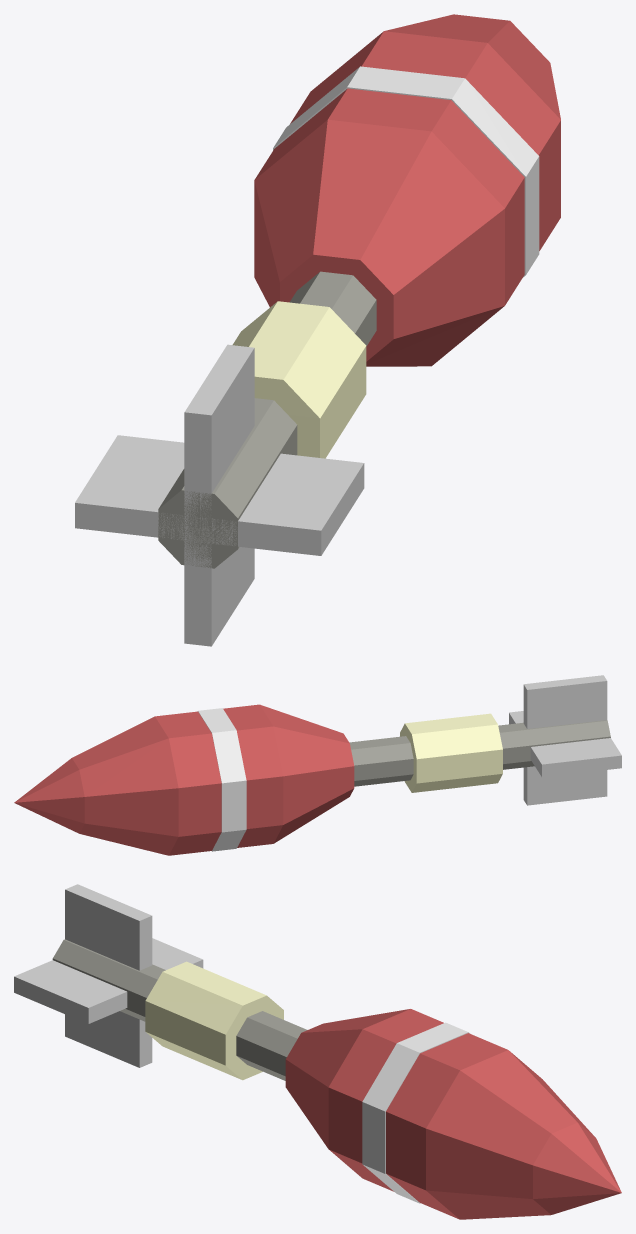
The model's file is ce_ammo_mortar_firefoam_a.obj.
3 renders of one model, top to bottom at view 1: azimuth 30°, elevation 25°; view 2: azimuth 150°, elevation 25°; view 3: azimuth 270°, elevation 25°, orthographic. The views are drawn at different scales.
Visible parts, largest first — view 1: ce_ammo_mortar_firefoam_a_2, ce_ammo_mortar_firefoam_a_8, ce_ammo_mortar_firefoam_a_9, ce_ammo_mortar_firefoam_a_1, ce_ammo_mortar_firefoam_a_0, ce_ammo_mortar_firefoam_a_5, ce_ammo_mortar_firefoam_a_3, ce_ammo_mortar_firefoam_a_4, ce_ammo_mortar_firefoam_a_6; view 2: ce_ammo_mortar_firefoam_a_6, ce_ammo_mortar_firefoam_a_2, ce_ammo_mortar_firefoam_a_1, ce_ammo_mortar_firefoam_a_9, ce_ammo_mortar_firefoam_a_5, ce_ammo_mortar_firefoam_a_0, ce_ammo_mortar_firefoam_a_3, ce_ammo_mortar_firefoam_a_4, ce_ammo_mortar_firefoam_a_8, ce_ammo_mortar_firefoam_a_7; view 3: ce_ammo_mortar_firefoam_a_6, ce_ammo_mortar_firefoam_a_1, ce_ammo_mortar_firefoam_a_9, ce_ammo_mortar_firefoam_a_5, ce_ammo_mortar_firefoam_a_3, ce_ammo_mortar_firefoam_a_0, ce_ammo_mortar_firefoam_a_7, ce_ammo_mortar_firefoam_a_2, ce_ammo_mortar_firefoam_a_8, ce_ammo_mortar_firefoam_a_4.
Part boxes in pixels (left/top/right/bottom): ce_ammo_mortar_firefoam_a_2: left=254, top=119, right=504, bottom=366; ce_ammo_mortar_firefoam_a_8: left=75, top=435, right=364, bottom=555; ce_ammo_mortar_firefoam_a_9: left=184, top=344, right=254, bottom=646; ce_ammo_mortar_firefoam_a_1: left=232, top=301, right=366, bottom=458; ce_ammo_mortar_firefoam_a_0: left=158, top=271, right=376, bottom=568; ce_ammo_mortar_firefoam_a_5: left=290, top=31, right=560, bottom=250; ce_ammo_mortar_firefoam_a_3: left=255, top=88, right=524, bottom=305; ce_ammo_mortar_firefoam_a_4: left=273, top=66, right=539, bottom=277; ce_ammo_mortar_firefoam_a_6: left=384, top=14, right=560, bottom=119; ce_ammo_mortar_firefoam_a_6: left=72, top=716, right=178, bottom=855; ce_ammo_mortar_firefoam_a_2: left=260, top=704, right=354, bottom=843; ce_ammo_mortar_firefoam_a_1: left=400, top=713, right=502, bottom=792; ce_ammo_mortar_firefoam_a_9: left=523, top=675, right=607, bottom=805; ce_ammo_mortar_firefoam_a_5: left=155, top=711, right=221, bottom=855; ce_ammo_mortar_firefoam_a_0: left=349, top=720, right=610, bottom=786; ce_ammo_mortar_firefoam_a_3: left=223, top=704, right=283, bottom=847; ce_ammo_mortar_firefoam_a_4: left=197, top=708, right=246, bottom=851; ce_ammo_mortar_firefoam_a_8: left=509, top=711, right=621, bottom=777; ce_ammo_mortar_firefoam_a_7: left=14, top=758, right=84, bottom=833; ce_ammo_mortar_firefoam_a_6: left=426, top=1050, right=595, bottom=1219; ce_ammo_mortar_firefoam_a_1: left=145, top=961, right=283, bottom=1080; ce_ammo_mortar_firefoam_a_9: left=65, top=884, right=152, bottom=1067; ce_ammo_mortar_firefoam_a_5: left=386, top=1033, right=507, bottom=1219; ce_ammo_mortar_firefoam_a_3: left=328, top=1009, right=443, bottom=1191; ce_ammo_mortar_firefoam_a_0: left=52, top=939, right=307, bottom=1080; ce_ammo_mortar_firefoam_a_7: left=533, top=1122, right=621, bottom=1214; ce_ammo_mortar_firefoam_a_2: left=285, top=1009, right=409, bottom=1148; ce_ammo_mortar_firefoam_a_8: left=14, top=938, right=203, bottom=1023; ce_ammo_mortar_firefoam_a_4: left=362, top=1022, right=469, bottom=1203.
Size of the model in its own units: 0.7495 by 0.2052 by 0.7495.
